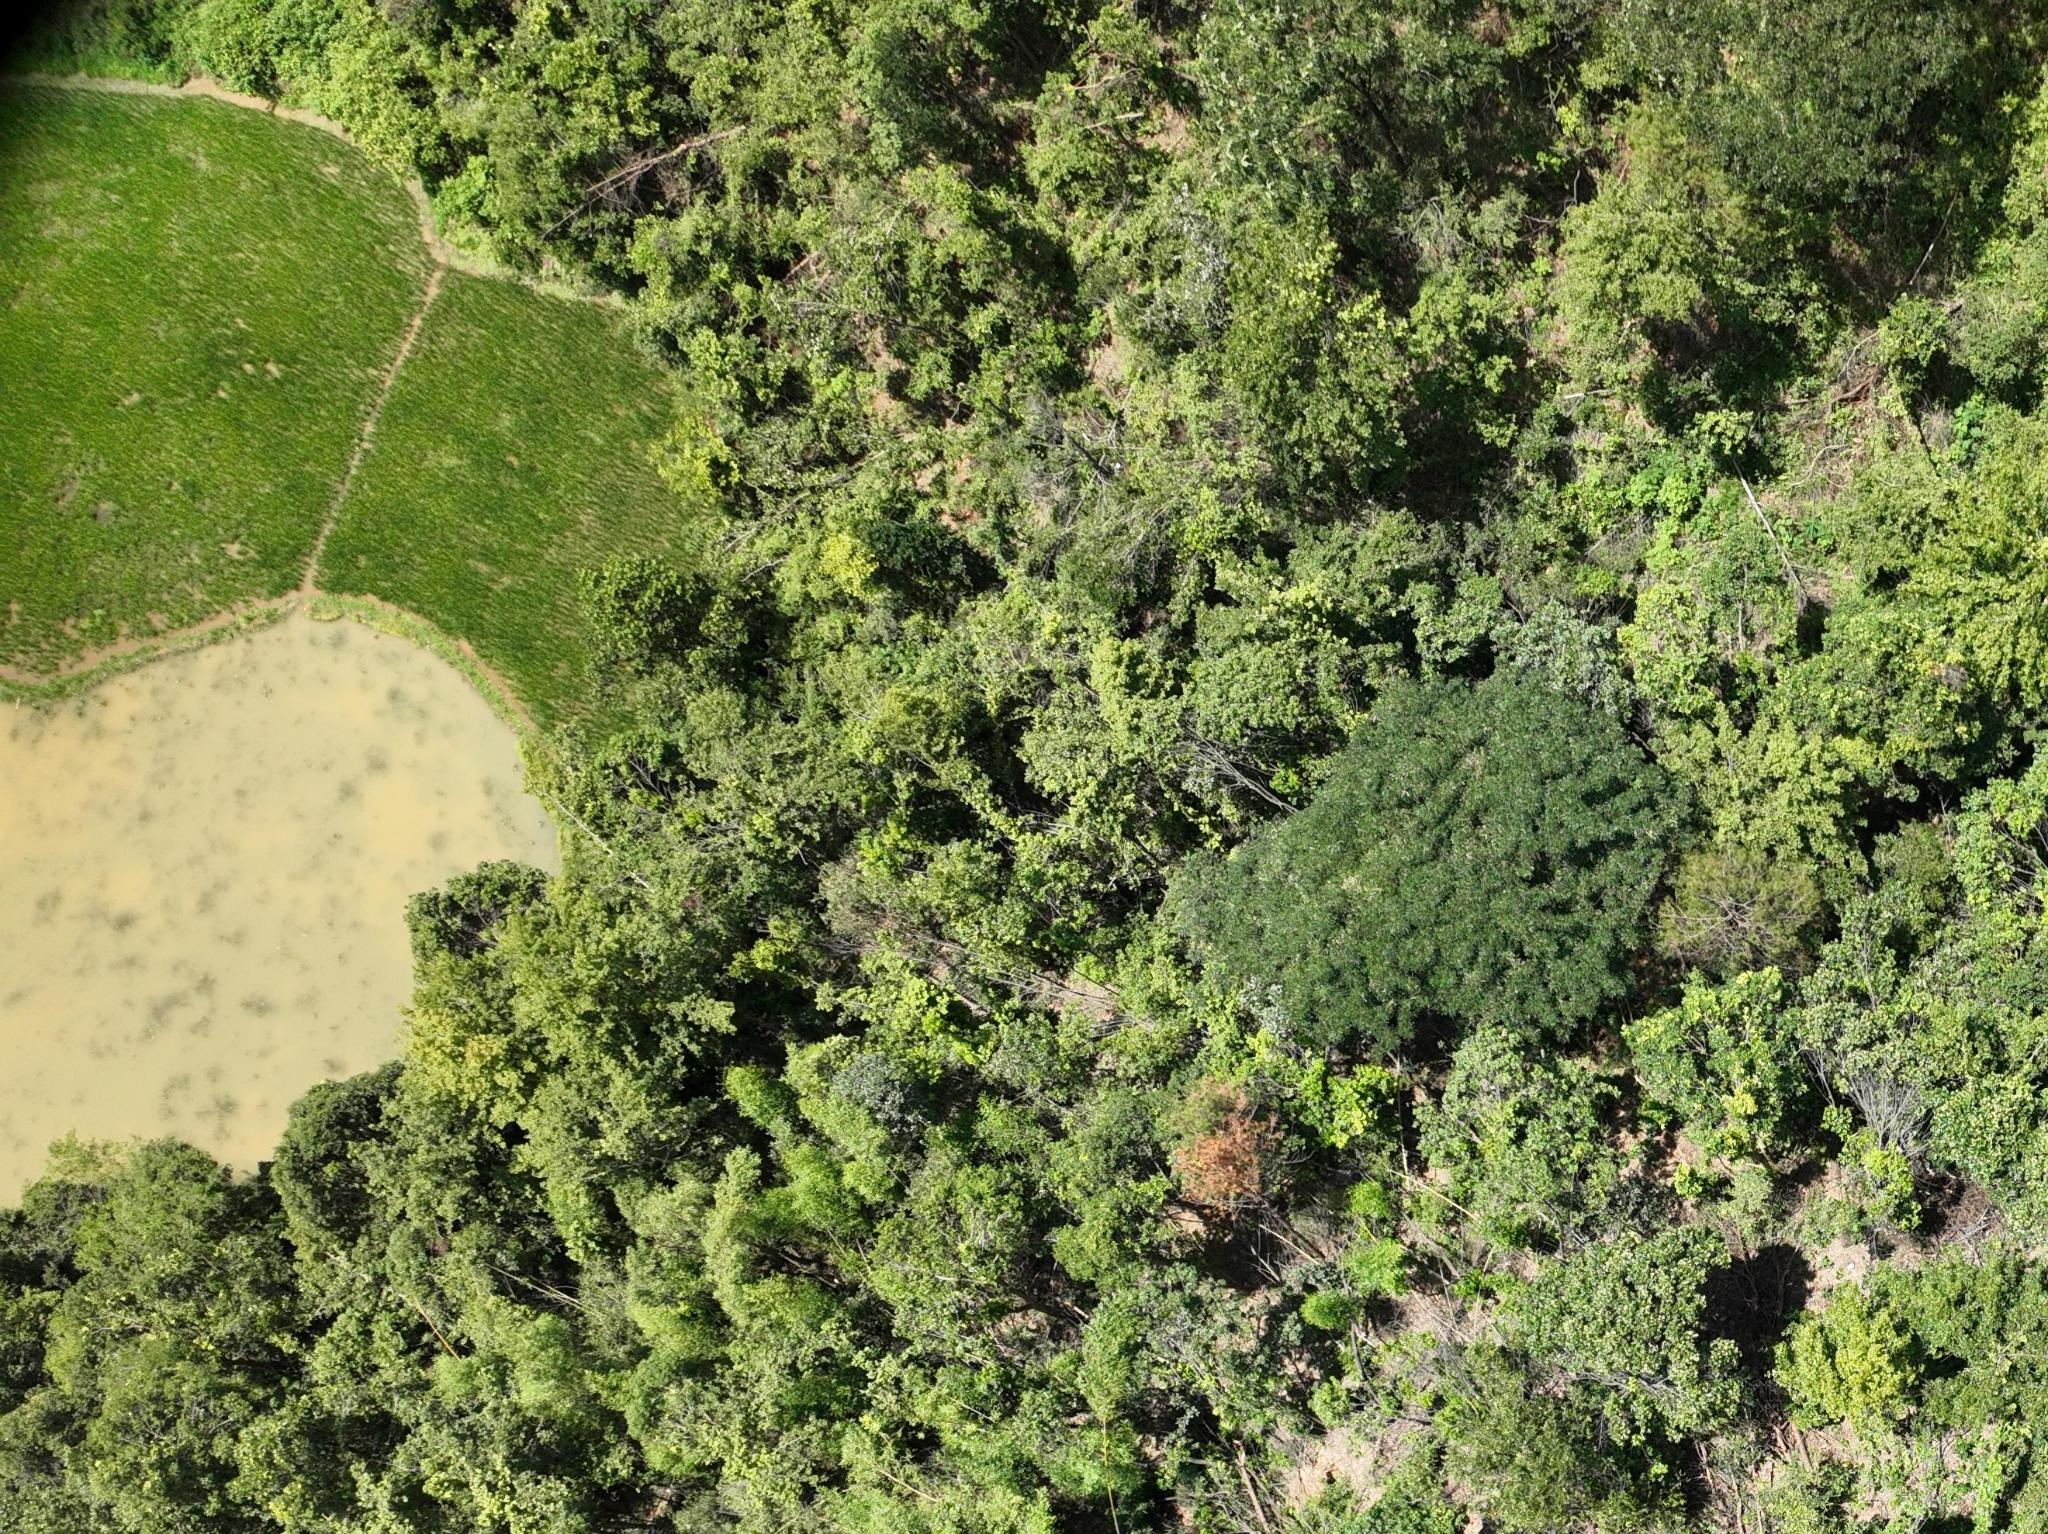heavy: (1170, 1104, 1270, 1213)
